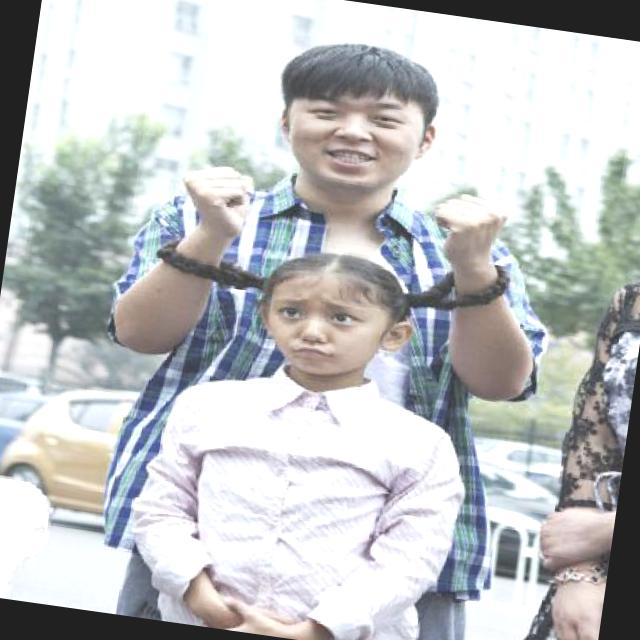Person: (85, 209, 513, 640)
